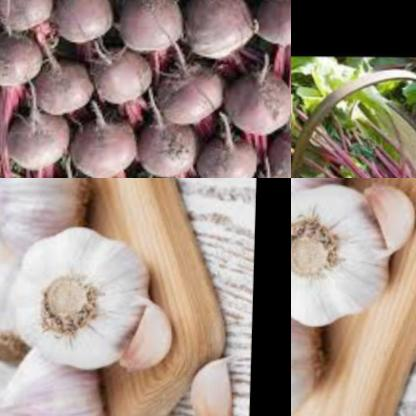beet: (88, 39, 163, 114), (25, 44, 100, 118), (7, 103, 79, 177), (159, 53, 230, 128), (73, 108, 143, 178), (226, 65, 291, 140), (134, 113, 208, 178), (187, 0, 258, 58), (116, 0, 192, 54), (198, 127, 262, 178), (52, 0, 115, 49), (0, 32, 45, 90), (252, 0, 291, 47), (271, 129, 291, 178)
garlic: (3, 225, 158, 371), (291, 182, 398, 328), (0, 234, 66, 371), (0, 178, 102, 261), (0, 343, 106, 416), (291, 289, 338, 416), (116, 294, 184, 381), (358, 178, 416, 258), (192, 357, 246, 416)
